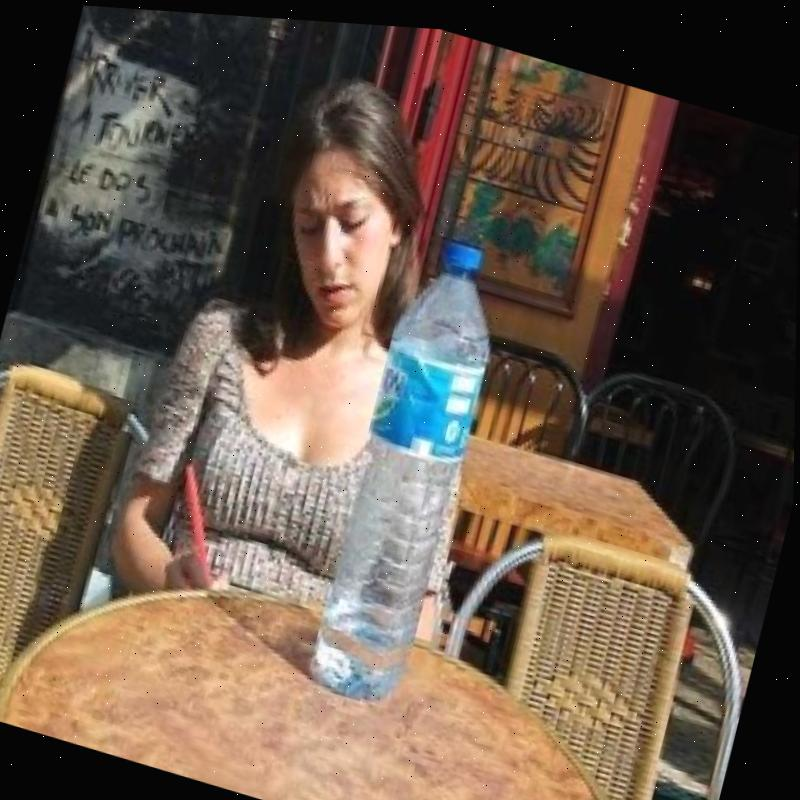botella: (302, 216, 517, 714)
